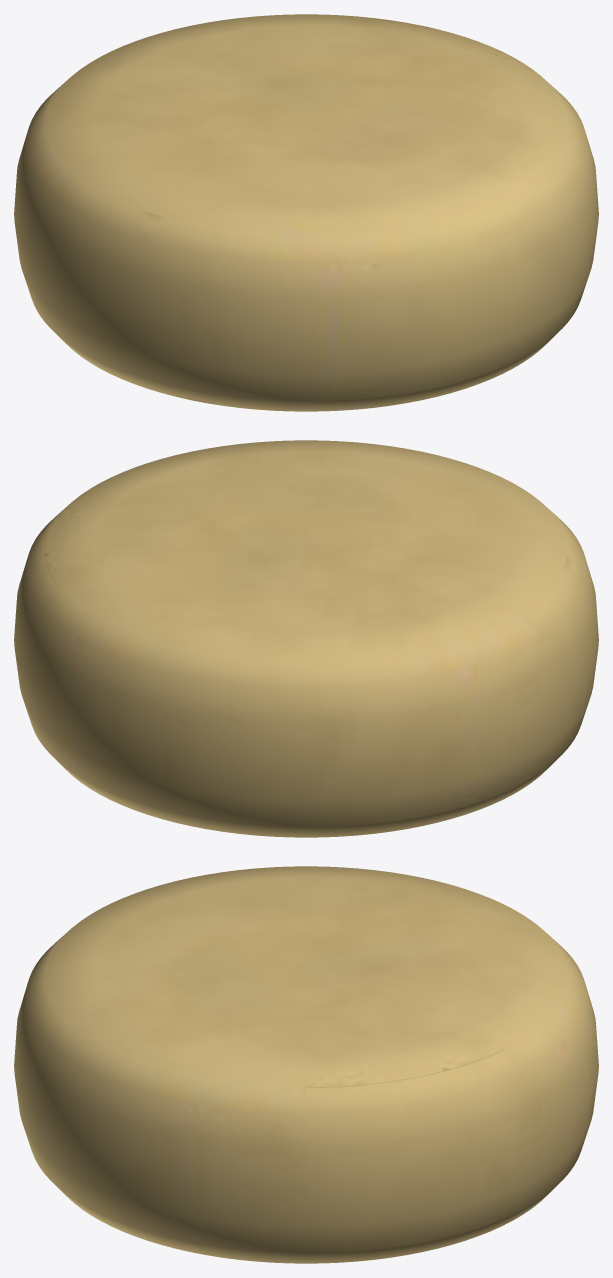
Rendered from cheese_wheel.glb.
The picture shows the model from 3 angles, top to bottom: view 1: azimuth 30°, elevation 25°; view 2: azimuth 150°, elevation 25°; view 3: azimuth 270°, elevation 25°; orthographic projection.
Visible parts, largest first — view 1: cheese_wheel; view 2: cheese_wheel; view 3: cheese_wheel.
Part boxes in pixels (left/top/right/bottom): cheese_wheel: left=14, top=14, right=598, bottom=411; cheese_wheel: left=14, top=440, right=598, bottom=837; cheese_wheel: left=14, top=866, right=598, bottom=1263.
Bounding box in the file's own units: 0.1619 × 0.062 × 0.1619.
Materials: 1 (1 with a texture image).
